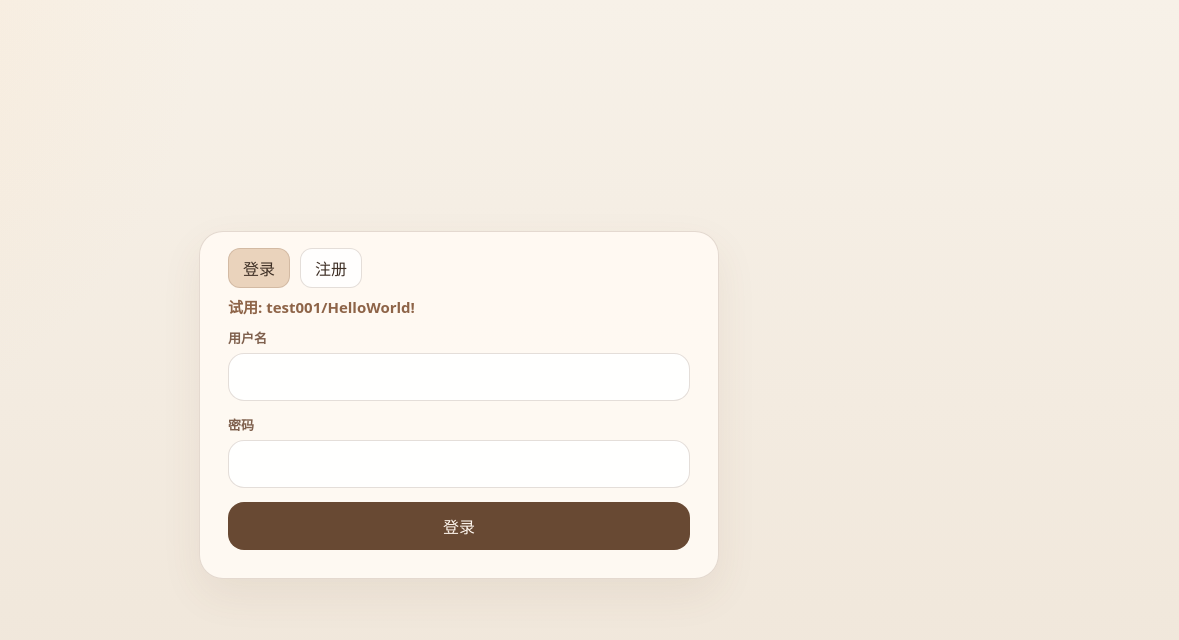
LoginPage › switches to register mode when registration is enabled
The width and height of the screenshot is (1179, 640).
Click the button "注册" at (331, 268), box [300,248,362,288]
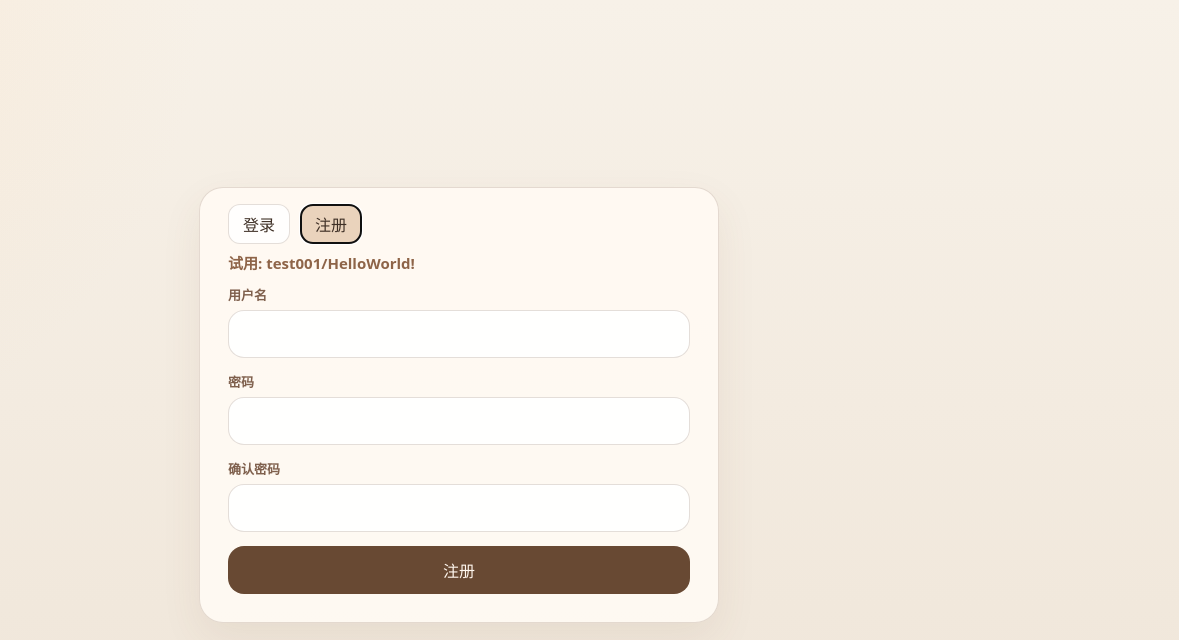
Now the text "确认密码" is shown, box [228,460,280,478]
